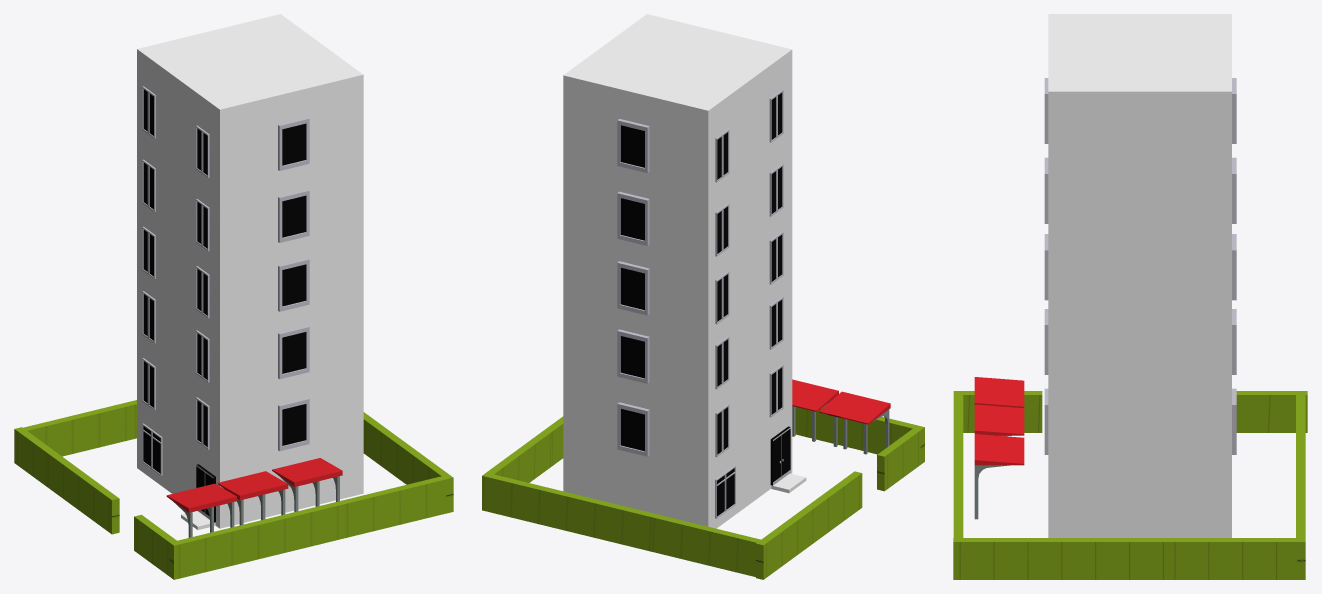
Rendered from Building.fbx.
The picture shows the model from 3 angles, left to right: view 1: azimuth 30°, elevation 25°; view 2: azimuth 150°, elevation 25°; view 3: azimuth 270°, elevation 25°; orthographic projection. The views are drawn at different scales.
Visible parts, largest first — view 1: Building_LOD0; view 2: Building_LOD0; view 3: Building_LOD0.
Part boxes in pixels (bbox=[...]): Building_LOD0: bbox=[14, 14, 453, 579]; Building_LOD0: bbox=[482, 14, 924, 579]; Building_LOD0: bbox=[953, 14, 1307, 579].
Size of what is drawn, in the model's own units: 3.89 by 5.58 by 3.85.
